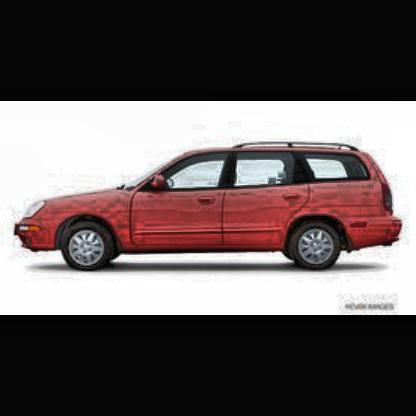Daewoo Nubira Wagon 2002: (13, 141, 406, 276)
